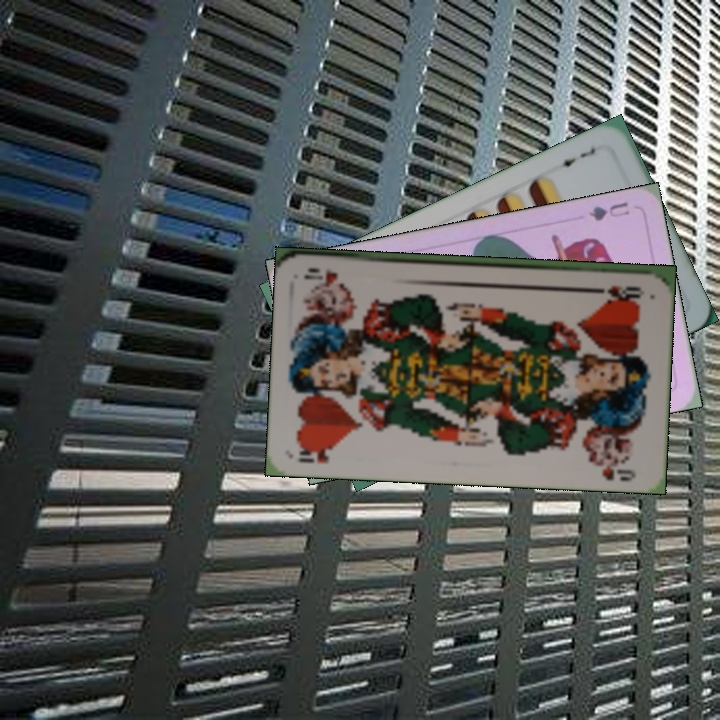E7: (551, 144, 598, 170)
GU: (585, 198, 632, 224)
HO: (294, 441, 340, 466), (589, 281, 643, 298)
